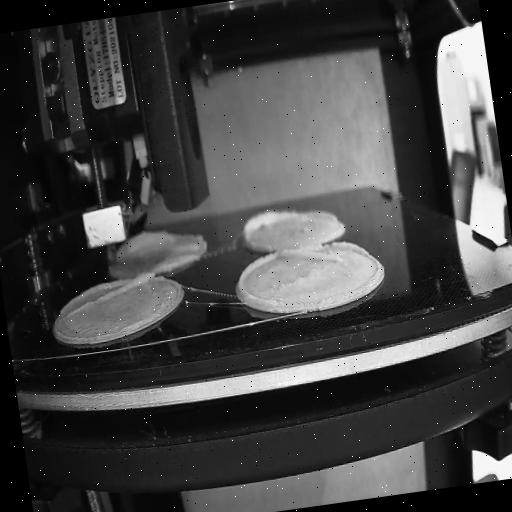over_extrusion: (61, 268, 160, 320), (277, 236, 370, 272), (234, 252, 284, 310), (238, 204, 300, 250), (120, 226, 176, 256)
